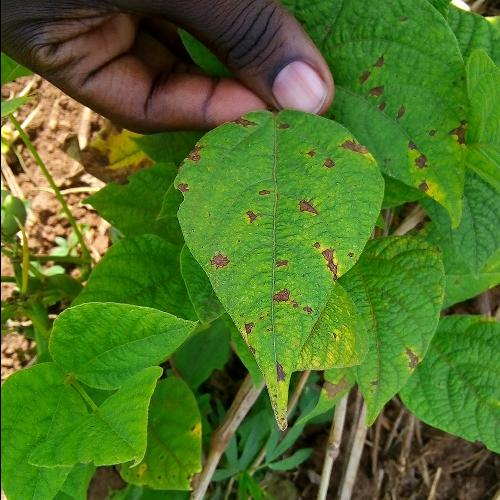hawar: (168, 83, 358, 406)
